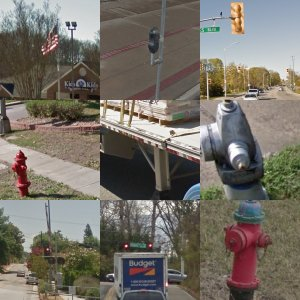汽車: (111, 249, 173, 296), (25, 274, 42, 286)
消防栓: (200, 98, 269, 199), (223, 200, 270, 300), (10, 151, 35, 197)
紅綠燈: (143, 24, 165, 66), (228, 1, 246, 37), (40, 242, 56, 261)
